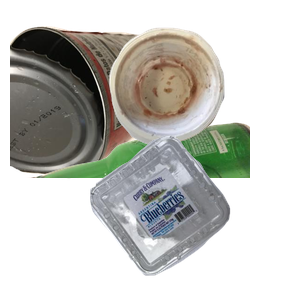glass: (23, 120, 263, 300)
metal: (10, 23, 193, 194)
plastic: (88, 133, 300, 300)
trash: (107, 25, 300, 162)
